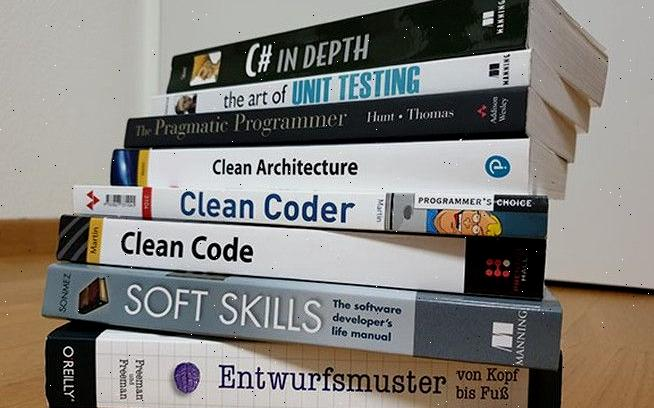book: (155, 55, 532, 122), (128, 136, 538, 196), (129, 95, 533, 154)
